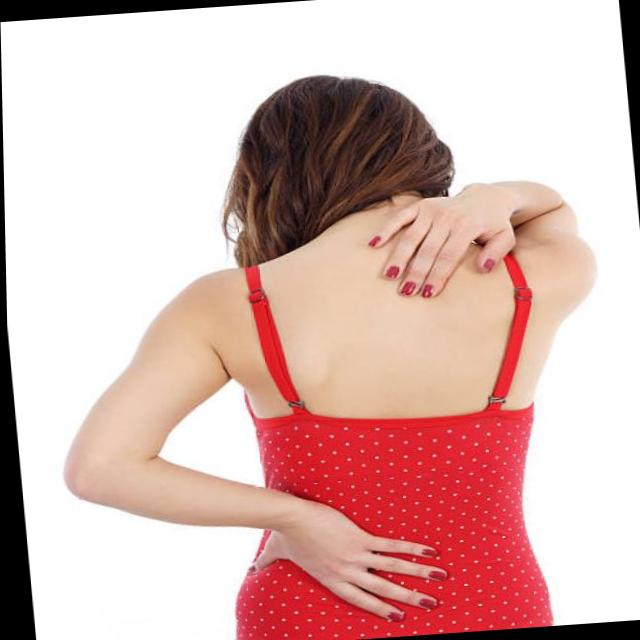no helmet: (214, 66, 431, 220)
